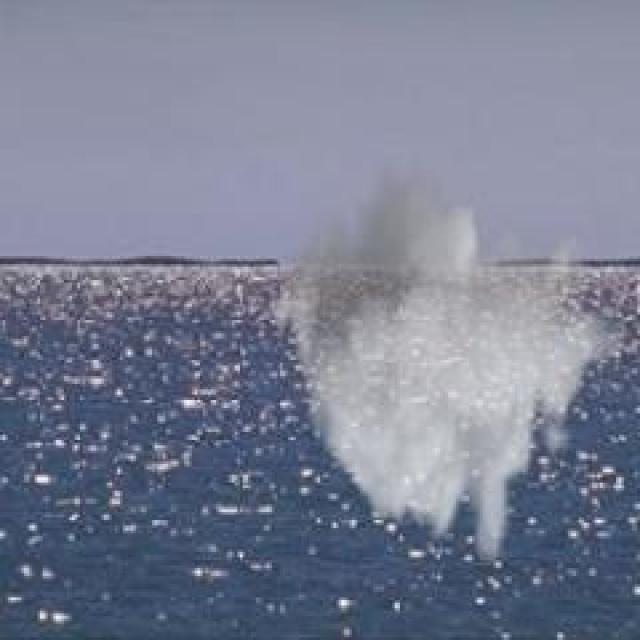Smoke: (256, 170, 612, 562)
